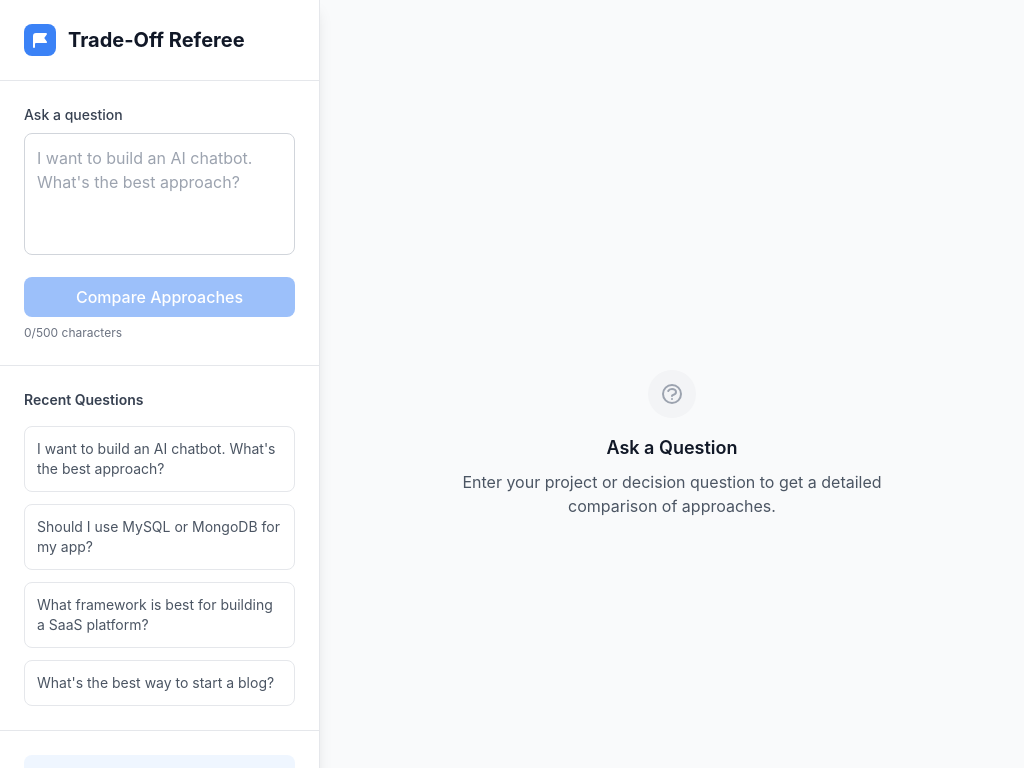
App Component › displays error message on API failure
Type "Test question" into the text box labelled "Ask a question" at [160, 194], box [24, 133, 295, 255]
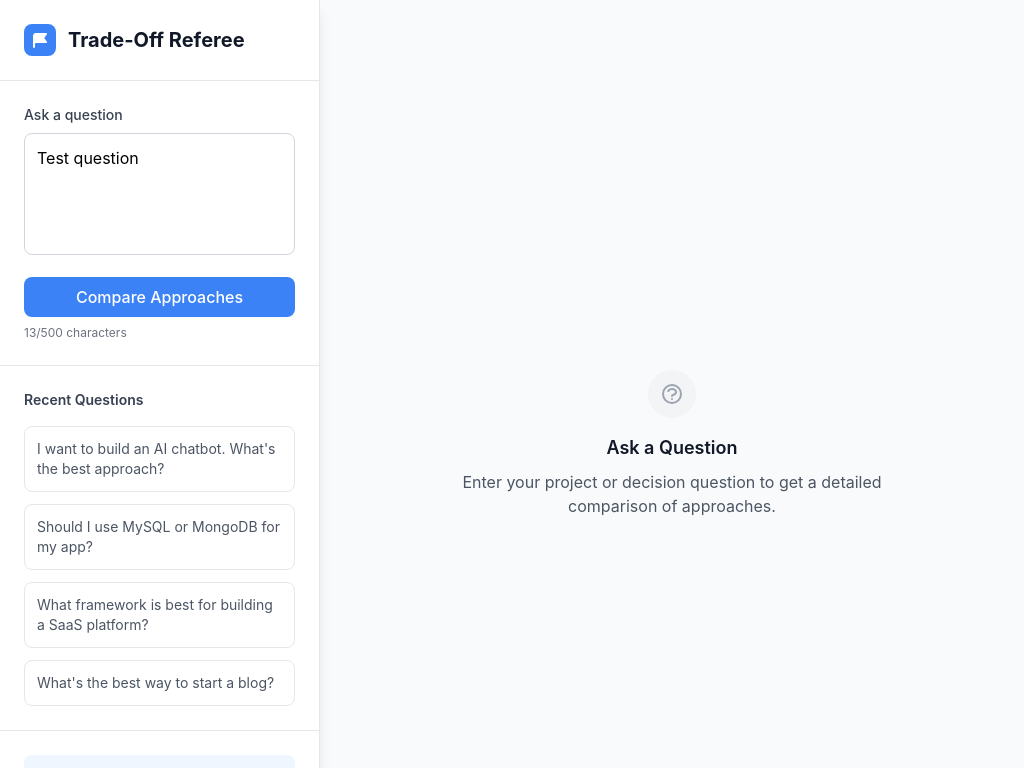
Click the button "Compare Approaches" at [160, 297], box [24, 277, 295, 317]
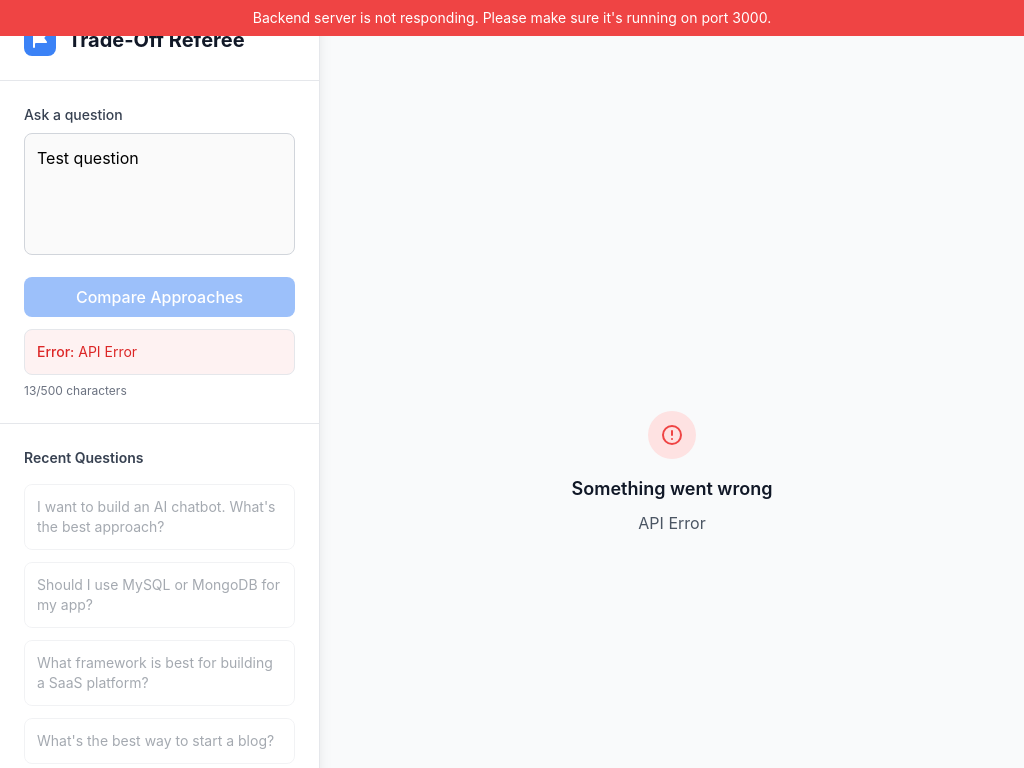
Result: the text "Error:" is shown at [37, 343, 74, 360]
